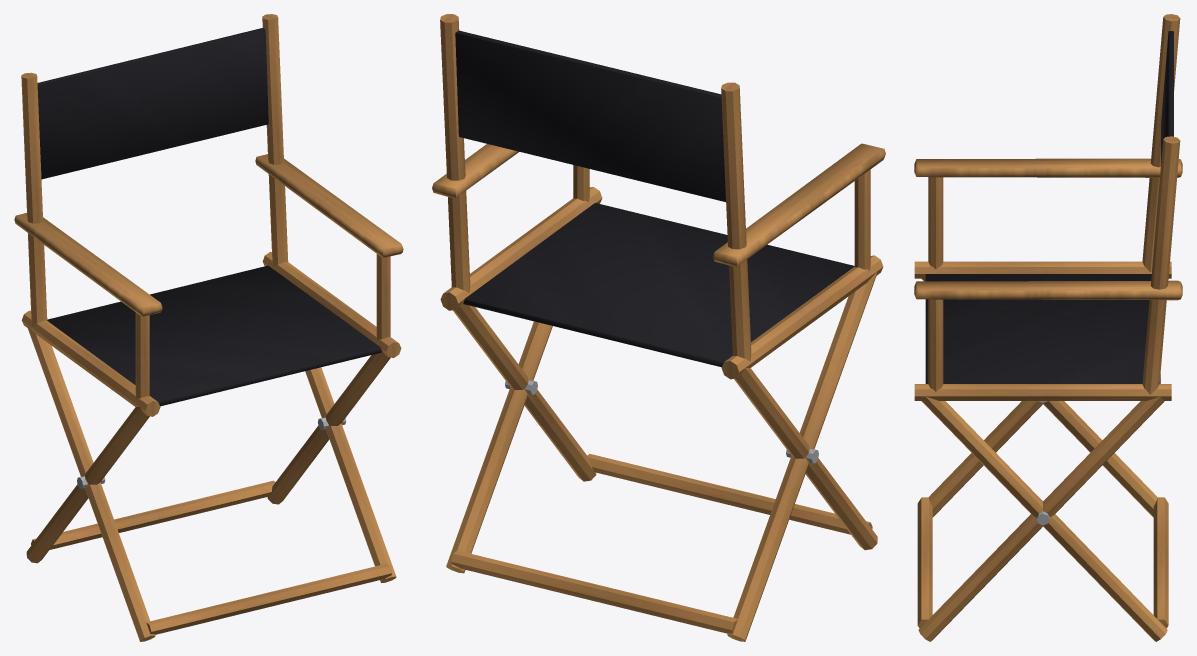
File: cadeira-diretor-leve.glb
3 renders of one model, left to right at view 1: azimuth 30°, elevation 25°; view 2: azimuth 150°, elevation 25°; view 3: azimuth 270°, elevation 25°, orthographic. The views are drawn at different scales.
Visible parts, largest first — view 1: assento-lona, encosto-lona, perna-a, coluna-encosto, travessa-piso, coluna-encosto.001, braco, braco.001, perna-a.001, perna-b, travessa-piso.001, perna-b.001 (+4 smaller); view 2: assento-lona, encosto-lona, perna-b, travessa-piso.001, coluna-encosto, braco, perna-b.001, coluna-encosto.001, perna-a, travessa-piso, perna-a.001, trilho-assento (+3 smaller); view 3: assento-lona, perna-a.001, perna-b.001, braco.001, braco, coluna-encosto.001, trilho-assento.001, trilho-assento, coluna-encosto, perna-b, perna-a, travessa-piso (+4 smaller).
Part boxes in pixels (<box>): assento-lona: <box>47,265,381,406</box>; encosto-lona: <box>37,28,268,179</box>; perna-a: <box>27,324,155,641</box>; coluna-encosto: <box>21,72,47,326</box>; travessa-piso: <box>146,564,392,634</box>; coluna-encosto.001: <box>262,14,288,267</box>; braco: <box>14,213,162,316</box>; braco.001: <box>255,154,403,257</box>; perna-a.001: <box>305,367,396,582</box>; perna-b: <box>26,407,149,563</box>; travessa-piso.001: <box>31,480,275,549</box>; perna-b.001: <box>267,348,390,504</box>; assento-lona: <box>463,203,854,367</box>; encosto-lona: <box>455,30,725,201</box>; perna-b: <box>727,272,877,641</box>; travessa-piso.001: <box>451,550,737,633</box>; coluna-encosto: <box>721,82,751,361</box>; braco: <box>713,143,885,266</box>; perna-b.001: <box>446,321,552,573</box>; coluna-encosto.001: <box>440,14,470,293</box>; perna-a: <box>734,368,877,550</box>; travessa-piso: <box>587,454,872,534</box>; perna-a.001: <box>453,299,596,481</box>; trilho-assento: <box>721,255,883,379</box>; assento-lona: <box>925,274,1160,383</box>; perna-a.001: <box>918,396,1164,641</box>; perna-b.001: <box>921,396,1167,641</box>; braco.001: <box>914,280,1182,300</box>; braco: <box>914,158,1182,177</box>; coluna-encosto.001: <box>1142,136,1180,394</box>; trilho-assento.001: <box>914,384,1171,400</box>; trilho-assento: <box>914,261,1171,278</box>; coluna-encosto: <box>1142,14,1180,272</box>; perna-b: <box>921,274,1157,517</box>; perna-a: <box>928,401,1042,517</box>; travessa-piso: <box>917,497,932,628</box>.
Bounding box in the file's own units: 0.5912 × 1.03 × 0.5012.
3 materials, 2 textured.
